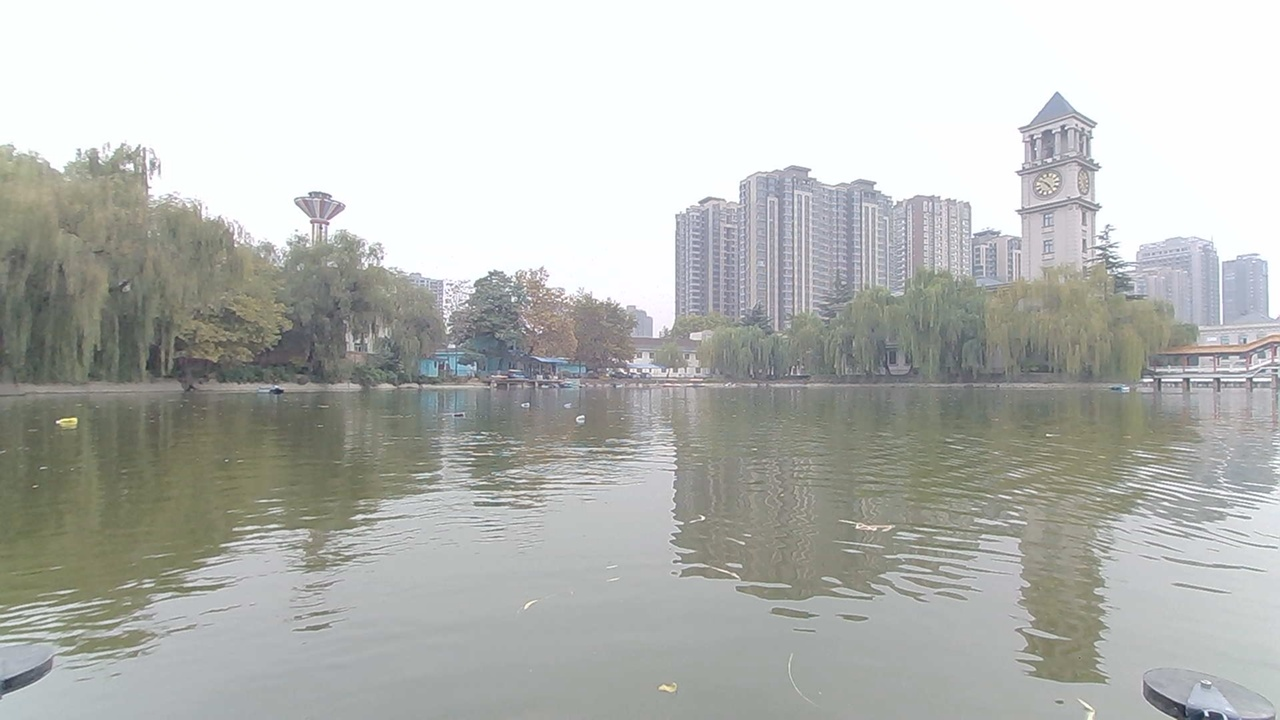bottle: (558, 404, 590, 427), (54, 411, 84, 435), (441, 401, 471, 423), (549, 392, 582, 409), (518, 395, 540, 414)
